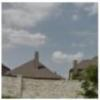chimneys: (72, 58, 79, 80), (33, 50, 40, 70)
